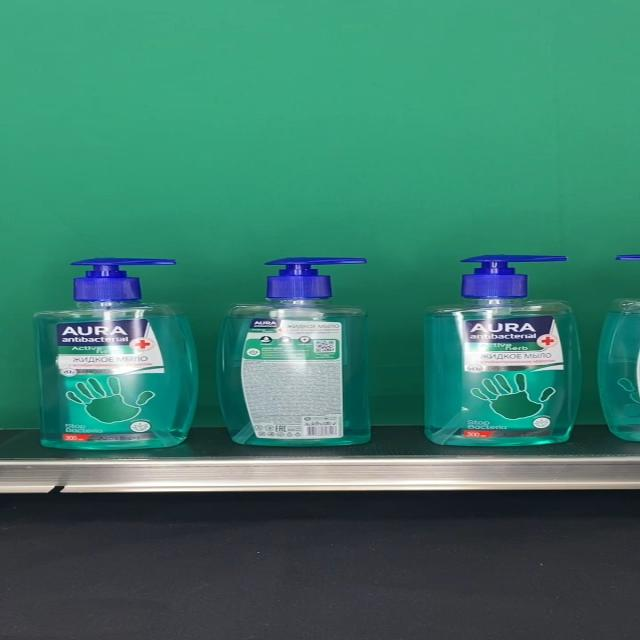Bottle: (31, 258, 198, 450), (422, 255, 582, 446), (217, 257, 371, 446)
Cap: (459, 255, 569, 297), (72, 258, 176, 301), (264, 257, 367, 299)
